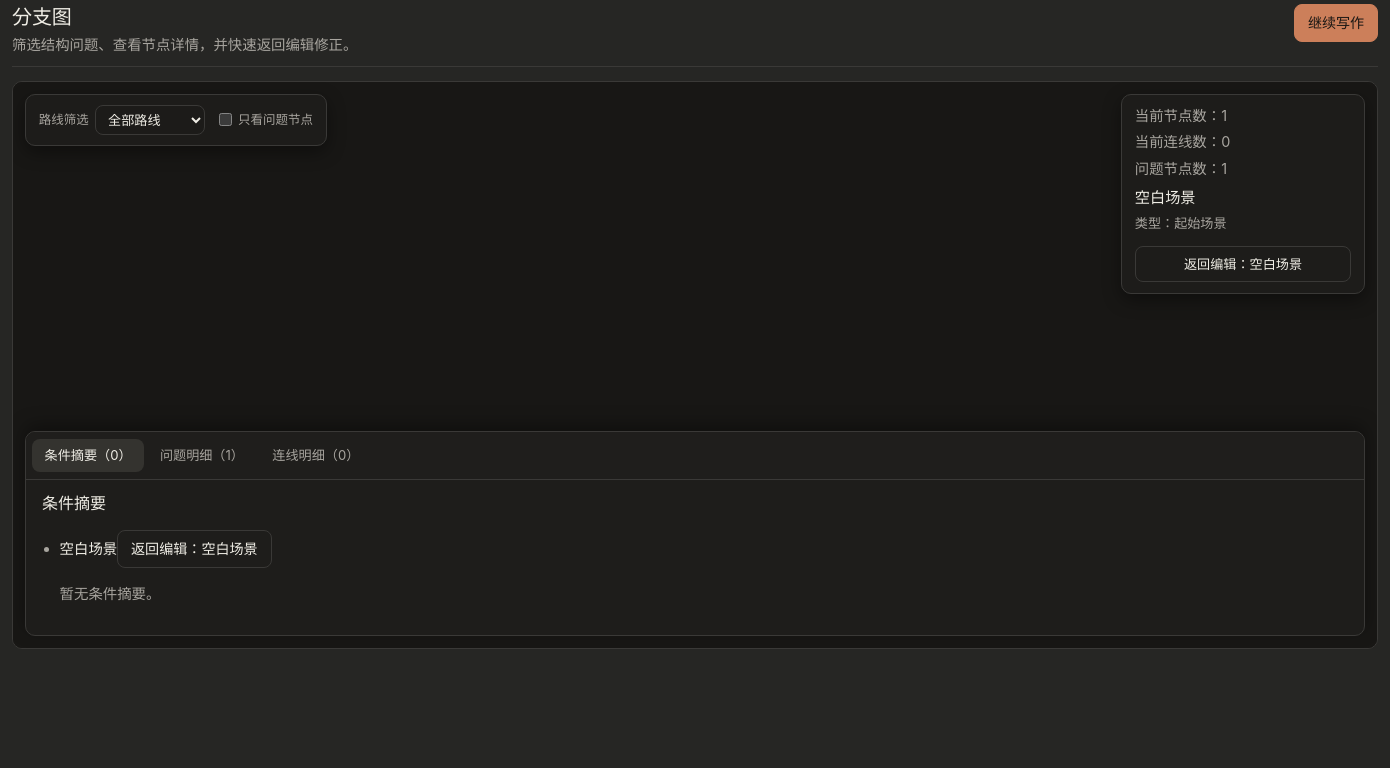
Test: GraphPage issue categories › 会显示问题分类并保留问题描述
The image size is (1390, 768).
Click the tab "问题明细（1）": (202, 455) [148, 439, 256, 472]
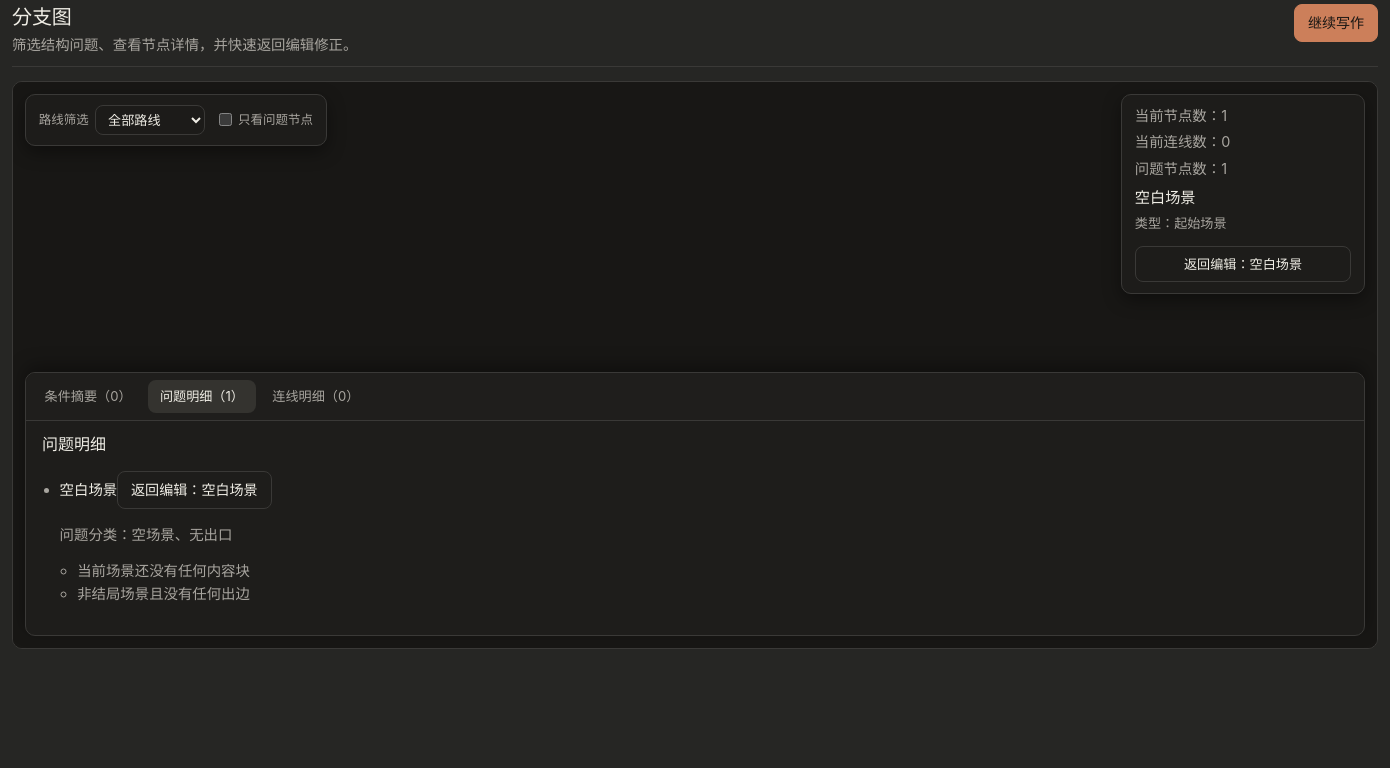
Check: the text "空白场景" is shown, box [60, 481, 117, 498]
Check: the text "问题分类：空场景、无出口" is shown, box [60, 526, 232, 542]
Check: the list item "当前场景还没有任何内容块" is shown, box [77, 562, 250, 579]
